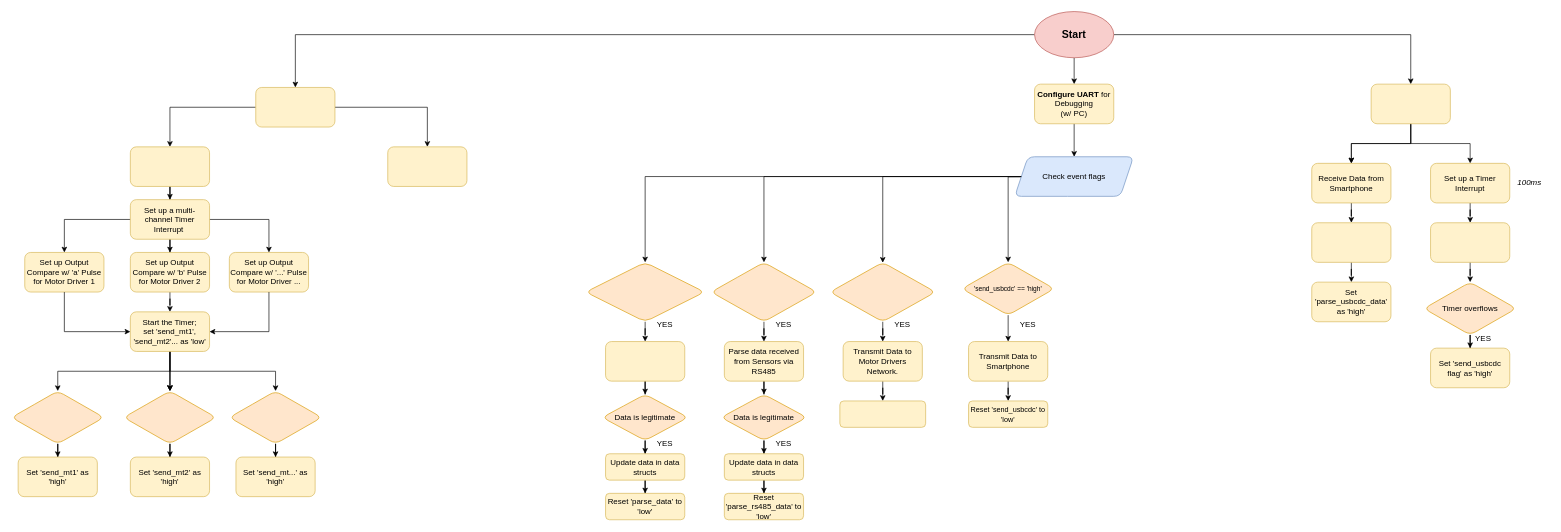
Image size: 1561x532. Some labels were removed from this diagram. Here are the shapes that lost their labels. From the top down, the centre of each, then its label:
(x=295, y=107): Configure RS485
(x=1410, y=103): Configure USBCDC (w/ Smartphone)
(x=170, y=166): Enable TX only for 'Motor Drivers' Port
(x=1351, y=242): Store in a circular buffer
(x=1470, y=242): Set 'send_usbcdc' as 'low'
(x=645, y=292): 'parse_usbcdc_data' == 'high'
(x=763, y=292): 'parse_rs485_data' == 'high'
(x=882, y=292): 'send_rs485_motor_driver' == 'high'
(x=645, y=361): Parse data received from Smartphone
(x=57, y=417): OCR1 overflows
(x=169, y=417): OCR2 overflows
(x=275, y=417): OCR... overflows
(x=882, y=413): Reset 'send_rs485_motor_driver' to 'low'
